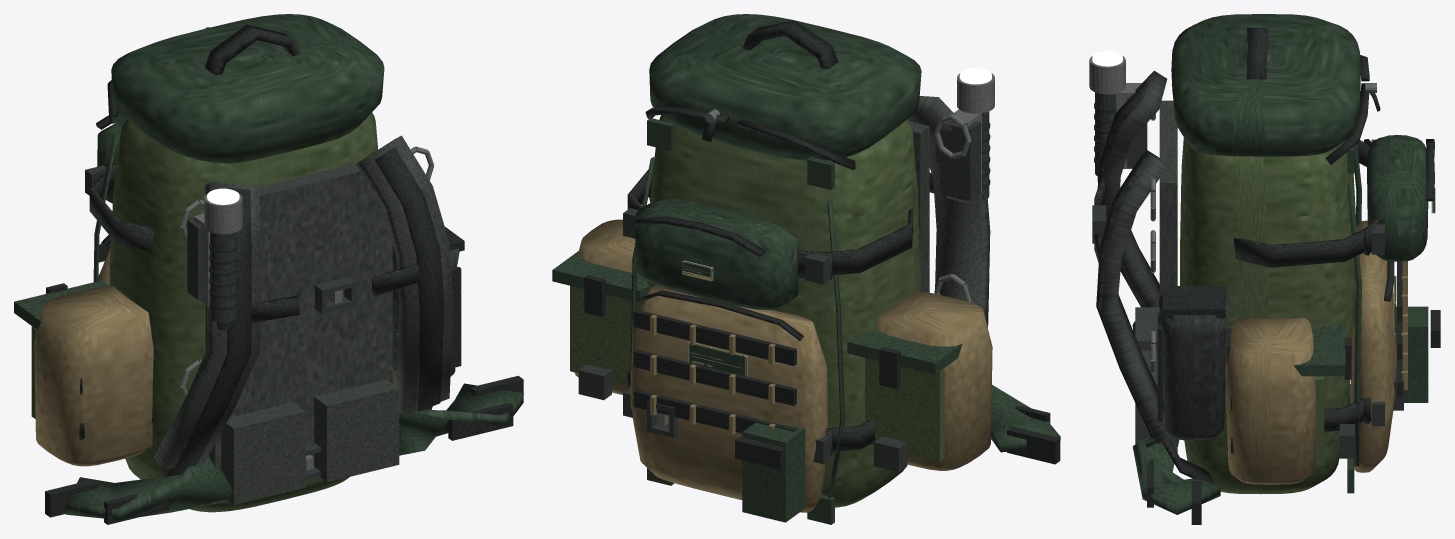
Rendered from PZ_MorrowTrail35_Backpack_COMPLETE.glb.
The picture shows the model from 3 angles, left to right: view 1: azimuth 30°, elevation 25°; view 2: azimuth 150°, elevation 25°; view 3: azimuth 270°, elevation 25°; orthographic projection. The views are drawn at different scales.
Visible parts, largest first — view 1: TopLid_Structured_Closure_Separate, Backpanel_EVA_Mesh_Contact, MainBag_35L_Olive_Contoured_ClosedShell, Left_Side_Pouch_Canvas_Shell, R_Curved_Contoured_ShoulderPad, R_Backpanel_Lumbar_Foam, L_Backpanel_Lumbar_Foam, R_Shoulder_Webbing_Overlay, L_Curved_Contoured_ShoulderPad, L_Padded_Waist_Belt, L_Shoulder_Webbing_Overlay, R_Padded_Waist_Belt (+17 smaller); view 2: MainBag_35L_Olive_Contoured_ClosedShell, TopLid_Structured_Closure_Separate, Front_ShoveIt_Pocket_Panel, Front_Zip_Utility_Pouch, Left_Side_Pouch_Canvas_Shell, L_Curved_Contoured_ShoulderPad, Left_Pouch_Reinforced_Face, Holster_OpenTop_Body, Right_Pouch_Reinforced_Face, Clamp_Back_Plate, MOLLE_Front_Horizontal_Row_2, MOLLE_Front_Horizontal_Row_3 (+27 smaller); view 3: MainBag_35L_Olive_Contoured_ClosedShell, TopLid_Structured_Closure_Separate, Right_Side_Pouch_Canvas_Shell, Empty_Weatherproof_Multitool_Sheath, Front_ShoveIt_Pocket_Panel, Front_Zip_Utility_Pouch, R_Curved_Contoured_ShoulderPad, L_Curved_Contoured_ShoulderPad, Backpanel_EVA_Mesh_Contact, R_Padded_Waist_Belt, Right_Compression_Side_Webbing_Z47, Holster_OpenTop_Body (+23 smaller).
Boxes of the visible parts, x1,y1,x2,y2 form: TopLid_Structured_Closure_Separate: [111, 14, 384, 163]; Backpanel_EVA_Mesh_Contact: [205, 163, 392, 468]; MainBag_35L_Olive_Contoured_ClosedShell: [109, 112, 377, 512]; Left_Side_Pouch_Canvas_Shell: [34, 286, 153, 466]; R_Curved_Contoured_ShoulderPad: [356, 135, 453, 416]; R_Backpanel_Lumbar_Foam: [314, 379, 399, 482]; L_Backpanel_Lumbar_Foam: [221, 402, 305, 504]; R_Shoulder_Webbing_Overlay: [375, 147, 444, 411]; L_Curved_Contoured_ShoulderPad: [154, 182, 260, 468]; L_Padded_Waist_Belt: [65, 456, 233, 519]; L_Shoulder_Webbing_Overlay: [173, 188, 251, 467]; R_Padded_Waist_Belt: [399, 383, 523, 455]; MainBag_35L_Olive_Contoured_ClosedShell: [647, 115, 920, 507]; TopLid_Structured_Closure_Separate: [649, 14, 921, 160]; Front_ShoveIt_Pocket_Panel: [630, 285, 827, 512]; Front_Zip_Utility_Pouch: [634, 198, 798, 309]; Left_Side_Pouch_Canvas_Shell: [873, 291, 992, 470]; L_Curved_Contoured_ShoulderPad: [908, 96, 990, 327]; Left_Pouch_Reinforced_Face: [865, 357, 944, 461]; Holster_OpenTop_Body: [742, 421, 805, 522]; Right_Pouch_Reinforced_Face: [570, 285, 644, 385]; Clamp_Back_Plate: [940, 121, 980, 201]; MOLLE_Front_Horizontal_Row_2: [633, 349, 796, 405]; MOLLE_Front_Horizontal_Row_3: [633, 309, 796, 365]; MainBag_35L_Olive_Contoured_ClosedShell: [1180, 137, 1355, 494]; TopLid_Structured_Closure_Separate: [1171, 14, 1360, 156]; Right_Side_Pouch_Canvas_Shell: [1225, 317, 1315, 484]; Empty_Weatherproof_Multitool_Sheath: [1159, 294, 1230, 440]; Front_ShoveIt_Pocket_Panel: [1350, 220, 1396, 472]; Front_Zip_Utility_Pouch: [1367, 135, 1428, 261]; R_Curved_Contoured_ShoulderPad: [1101, 149, 1171, 443]; L_Curved_Contoured_ShoulderPad: [1103, 70, 1167, 307]; Backpanel_EVA_Mesh_Contact: [1159, 100, 1177, 452]; R_Padded_Waist_Belt: [1132, 436, 1220, 514]; Right_Compression_Side_Webbing_Z47: [1233, 220, 1384, 267]; Holster_OpenTop_Body: [1396, 306, 1428, 402].
Size of the model in its own units: 0.742 by 0.67 by 0.501.
Materials: 10 (10 with a texture image).
